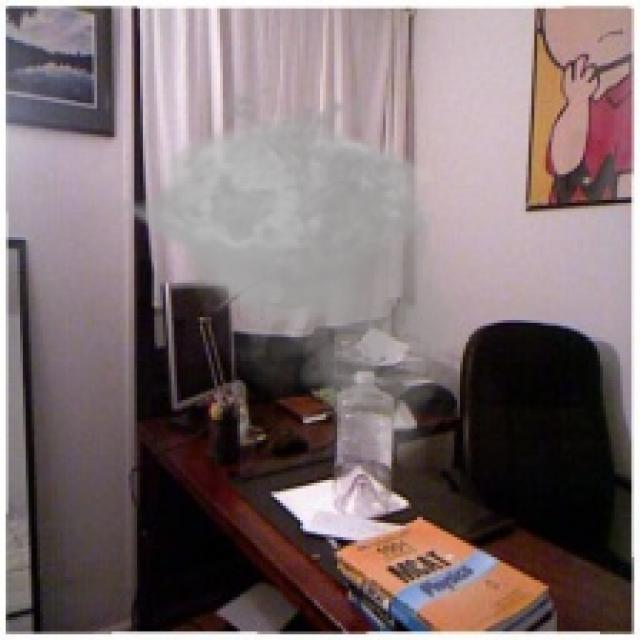Smoke: (92, 68, 477, 466)
